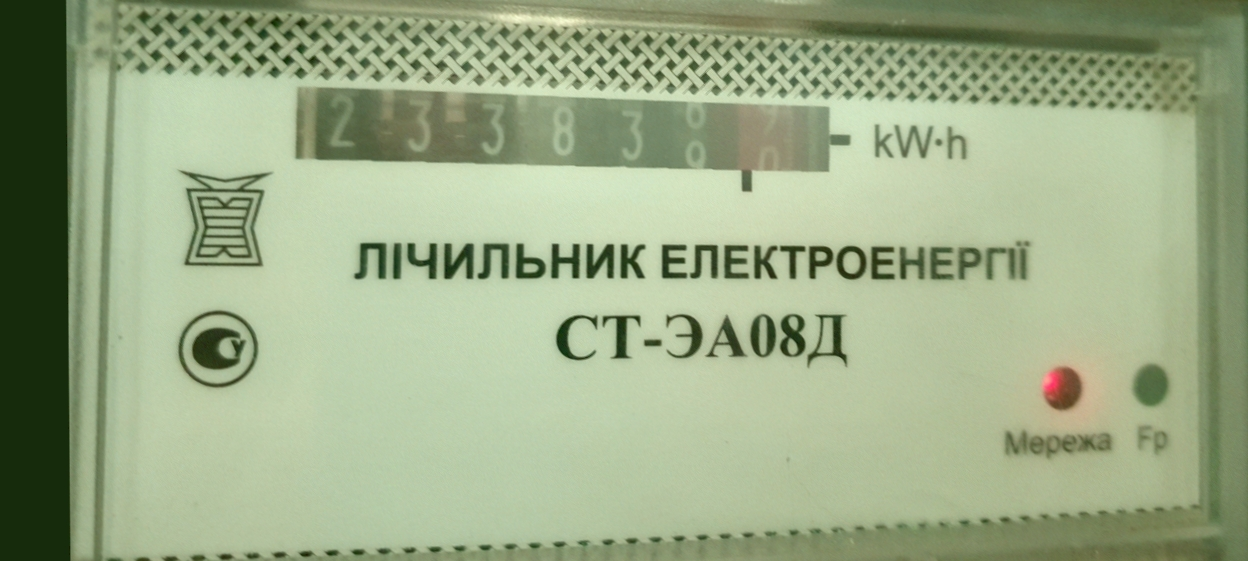0: (755, 143, 781, 177)
2: (322, 90, 361, 151)
3: (473, 97, 509, 160), (404, 96, 432, 154), (618, 105, 646, 162)
8: (545, 100, 579, 159), (683, 98, 709, 130)
9: (752, 100, 783, 138), (681, 137, 710, 173)
screen: (265, 61, 859, 221)
